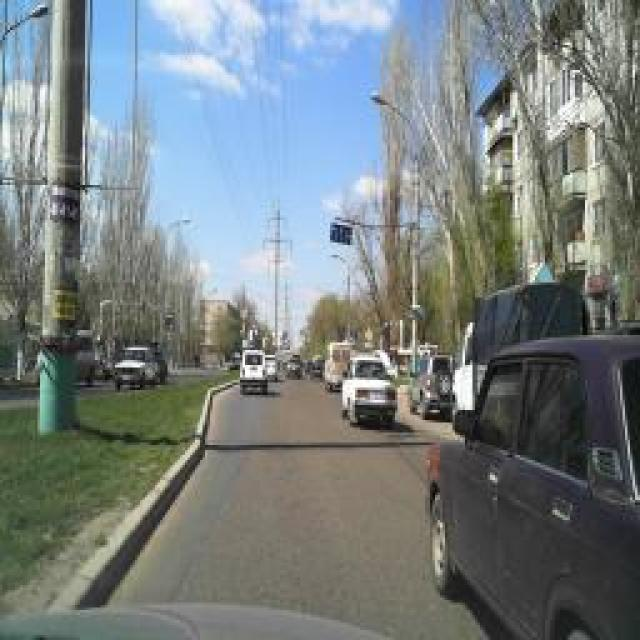sign: (364, 326, 374, 342)
